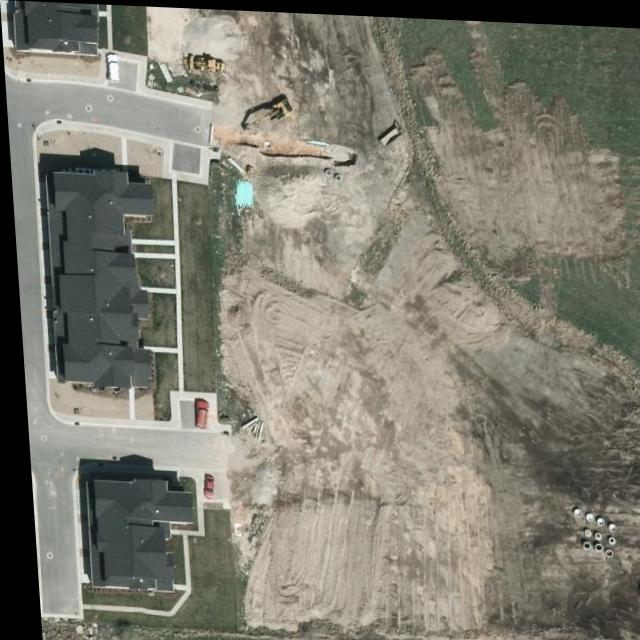vehicle: (103, 49, 123, 83), (188, 398, 205, 430), (194, 474, 210, 498)
